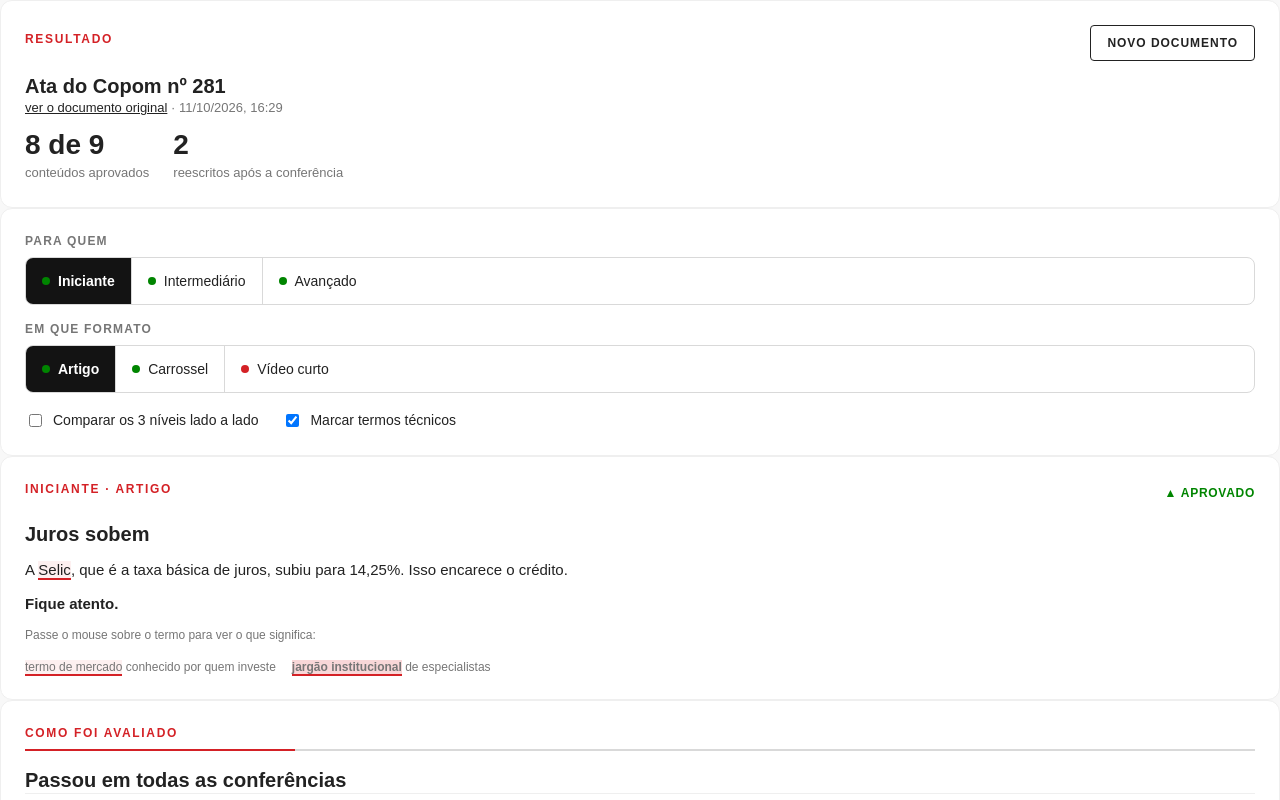
Scenario: Resultado › comparar mostra os 3 níveis do mesmo formato e trava o seletor de nível
Click the checkbox labelled "Comparar os 3 níveis lado a lado" at [36, 420], box [29,414,42,426]
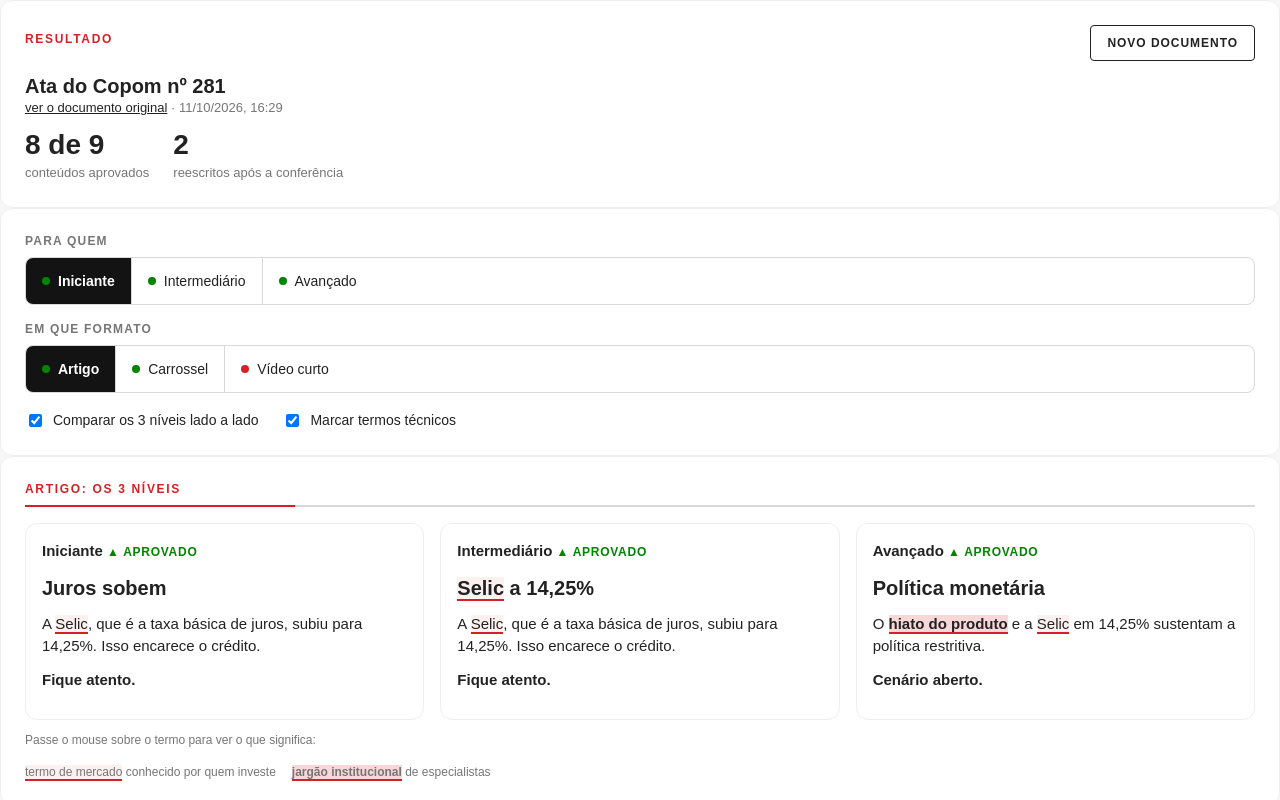
Now the heading "Artigo: os 3 níveis" is shown, box [25,482,181,496]
Now the number of elements with class "coluna" is 3, box [25,523,424,720]; [440,523,840,720]; [856,523,1255,720]
Now the text "Política monetária" is shown, box [873,577,1045,599]
Click the checkbox labelled "Comparar os 3 níveis lado a lado" at [36, 420], box [29,414,42,426]
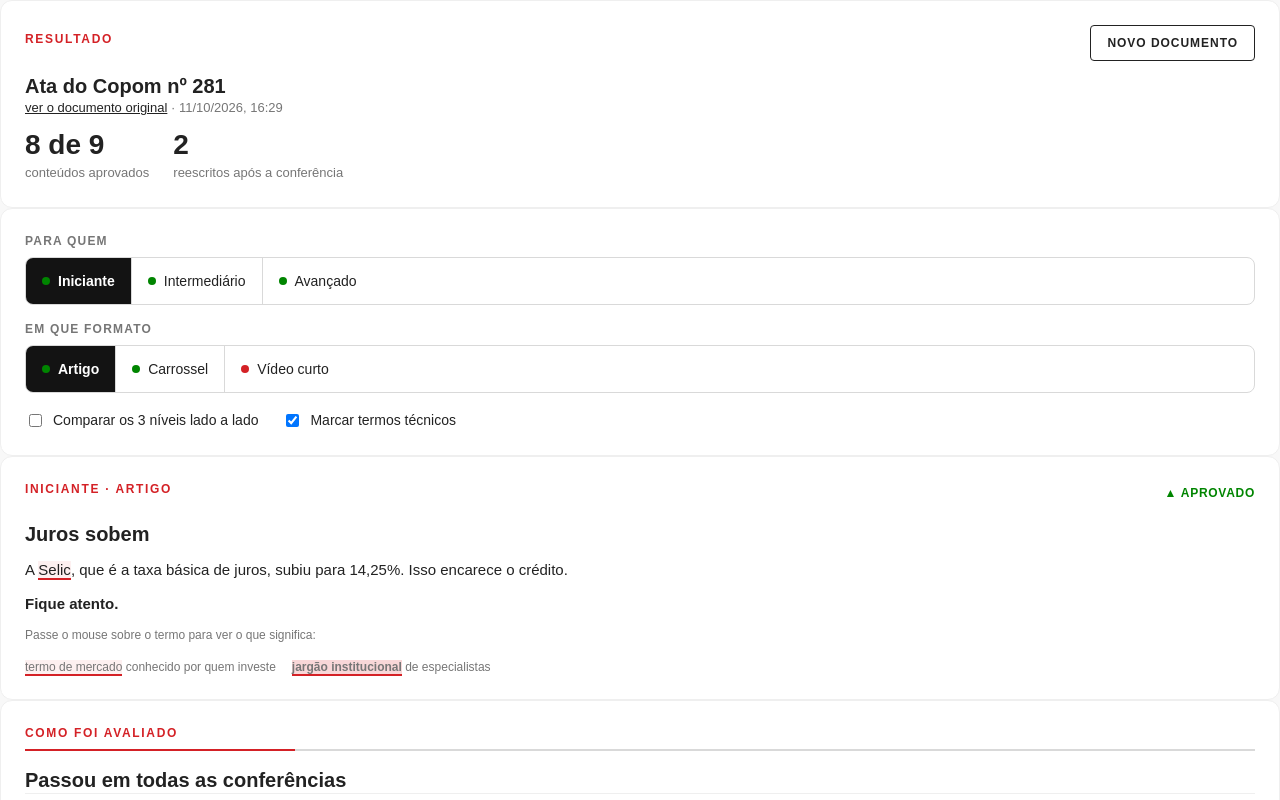
Now no elements with class "coluna" are shown
